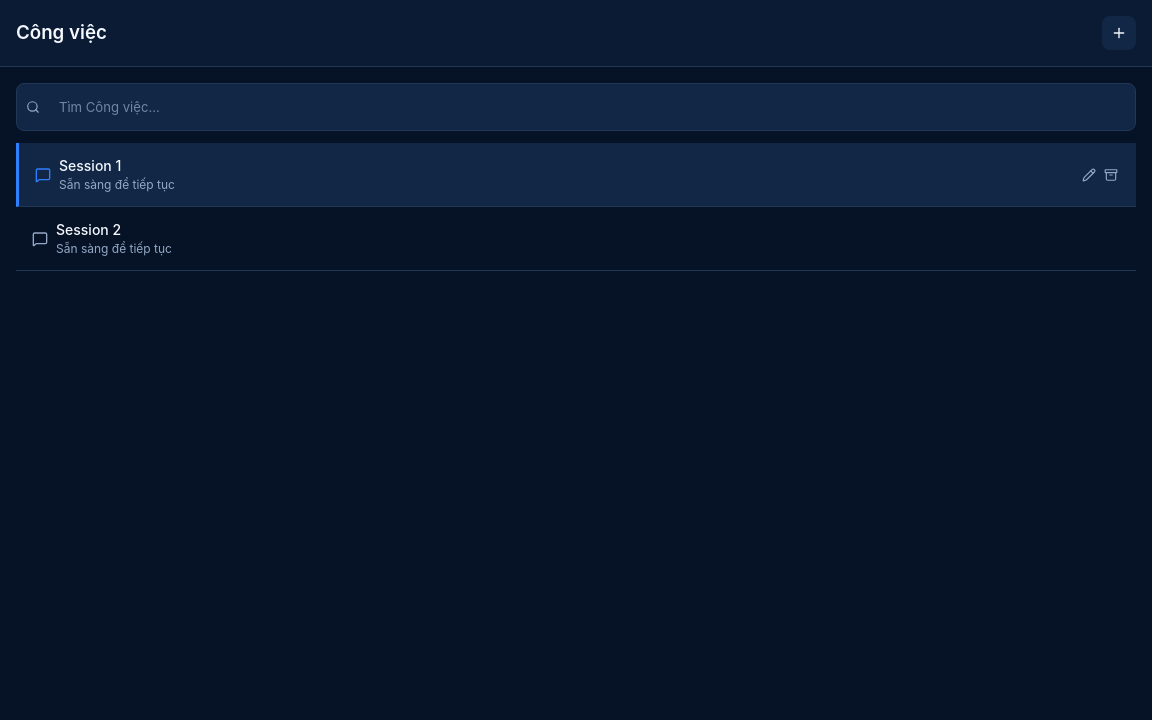
Test: SessionList › tự dùng workspace mặc định khi tạo phiên mà không nhập đường dẫn
Click the button titled "Tạo Công việc mới" at coordinates (1119, 33), box 1102,16 -> 1136,50
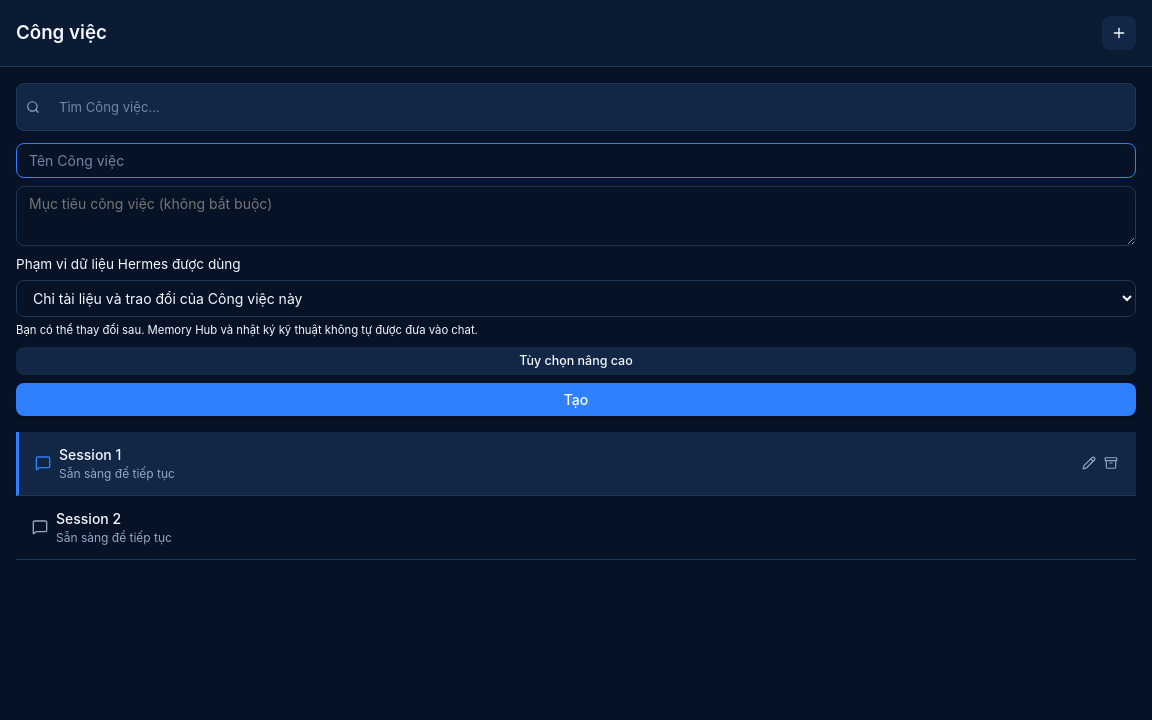
Type "New Session" into the field with placeholder "Tên Công việc" at coordinates (576, 161), box 16,143 -> 1136,178
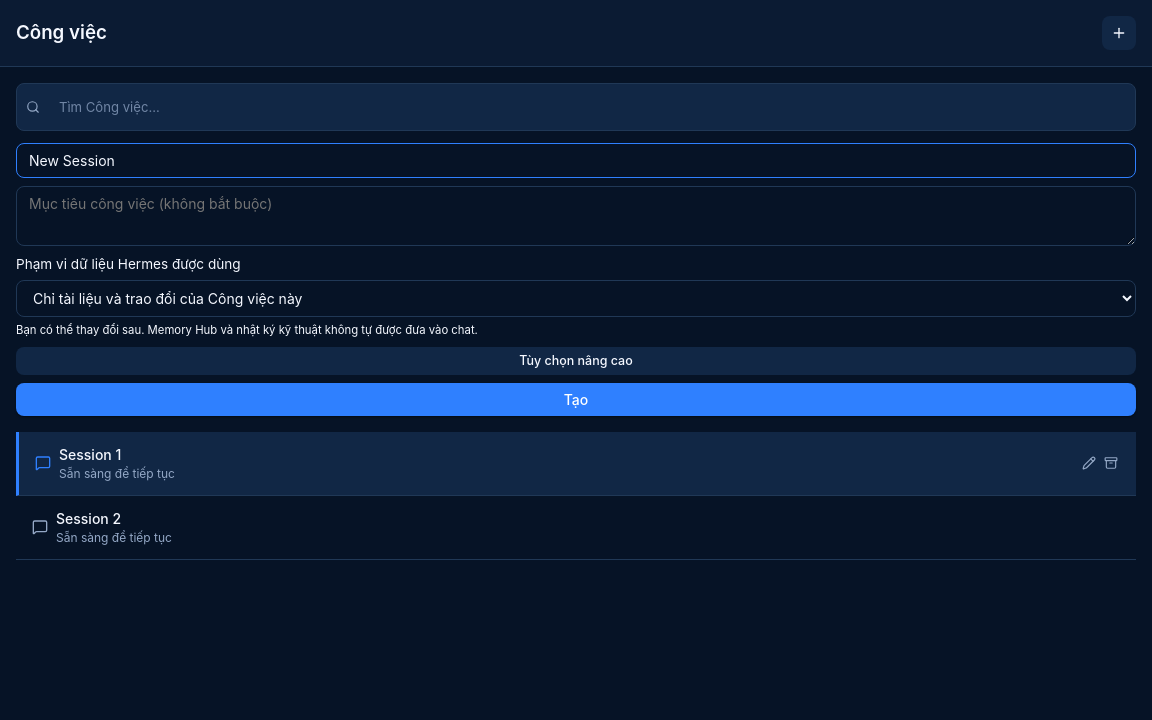
Click the button "Tạo" at coordinates (576, 399), box 16,383 -> 1136,416
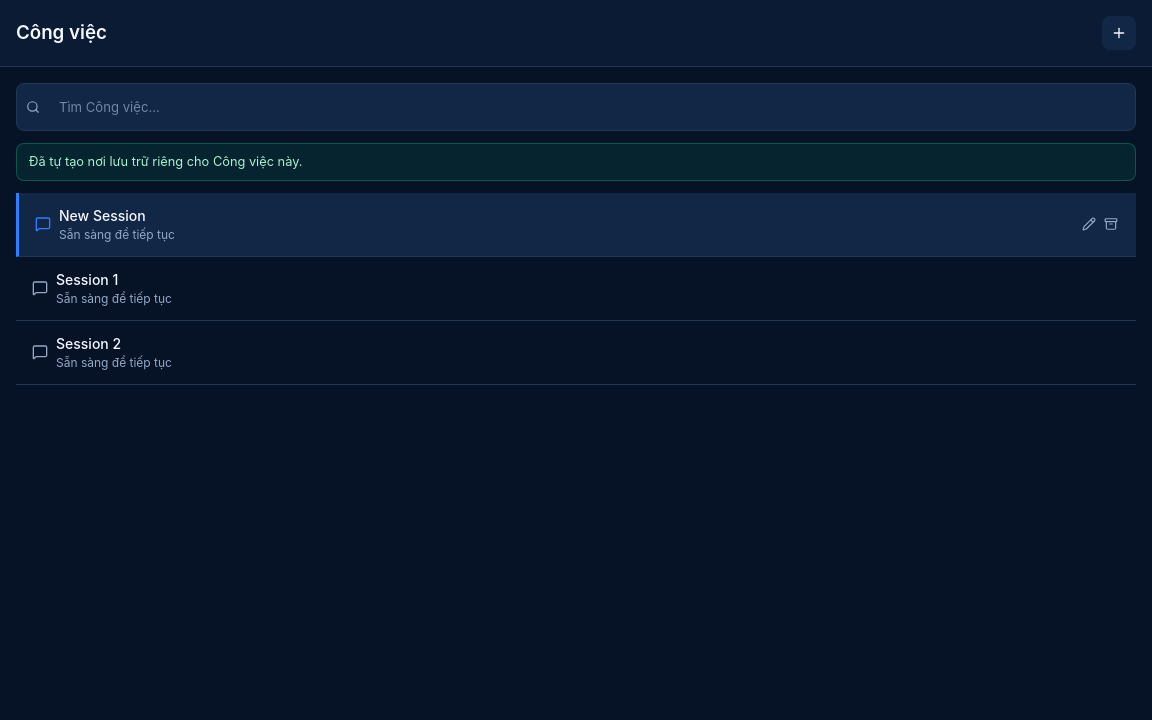
Check: the text "Đã tự tạo nơi lưu trữ riêng cho Công việc này." is shown, box 16,143 -> 1136,181
